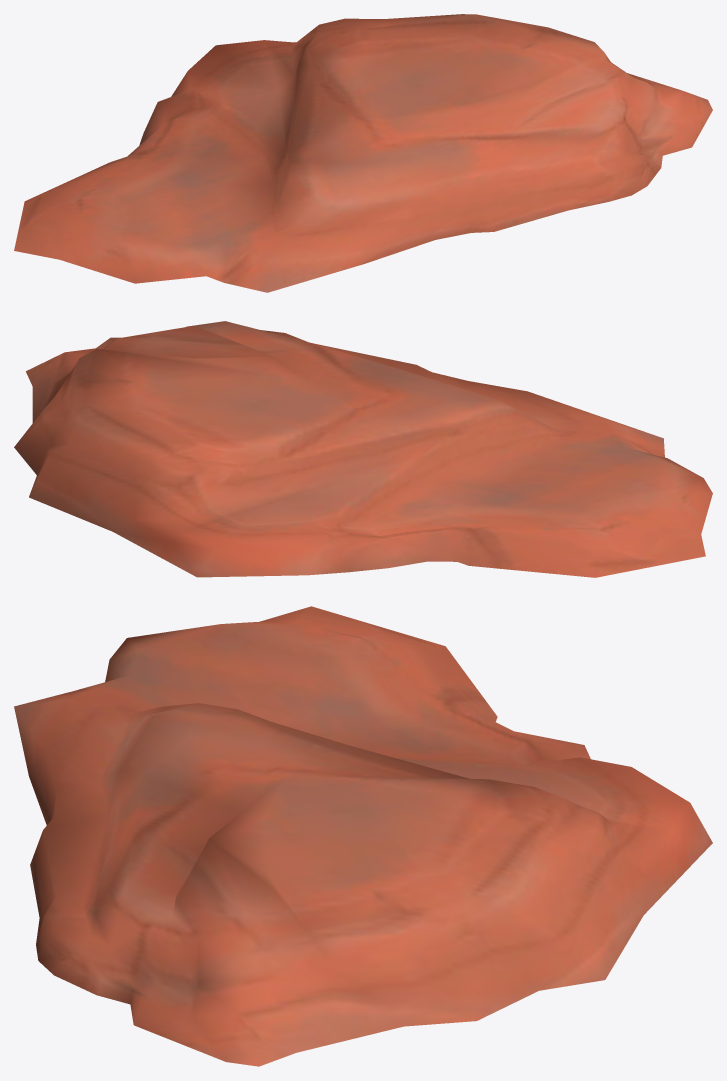
Rendered from Demo_shitou.FBX.
3 renders of one model, top to bottom at view 1: azimuth 30°, elevation 25°; view 2: azimuth 150°, elevation 25°; view 3: azimuth 270°, elevation 25°, orthographic. The views are drawn at different scales.
Visible parts, largest first — view 1: Demo_shitou01; view 2: Demo_shitou01; view 3: Demo_shitou01.
Boxes of the visible parts, <box> form: Demo_shitou01: <box>14,14,712,292</box>; Demo_shitou01: <box>14,321,712,577</box>; Demo_shitou01: <box>14,606,712,1066</box>.
Bounding box in the file's own units: 16.23 × 1.31 × 10.41.
